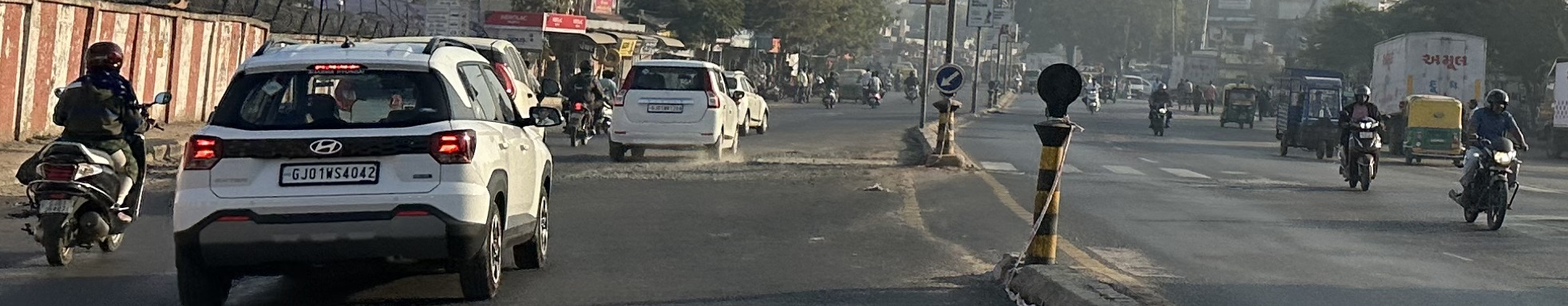BikeWithRider: (8, 35, 174, 270), (1436, 81, 1537, 235), (1325, 79, 1399, 194), (557, 63, 608, 150), (1142, 75, 1180, 139), (1078, 73, 1105, 115), (815, 73, 841, 111), (865, 76, 887, 110)
Helmet: (72, 37, 133, 77), (1481, 84, 1515, 112)
